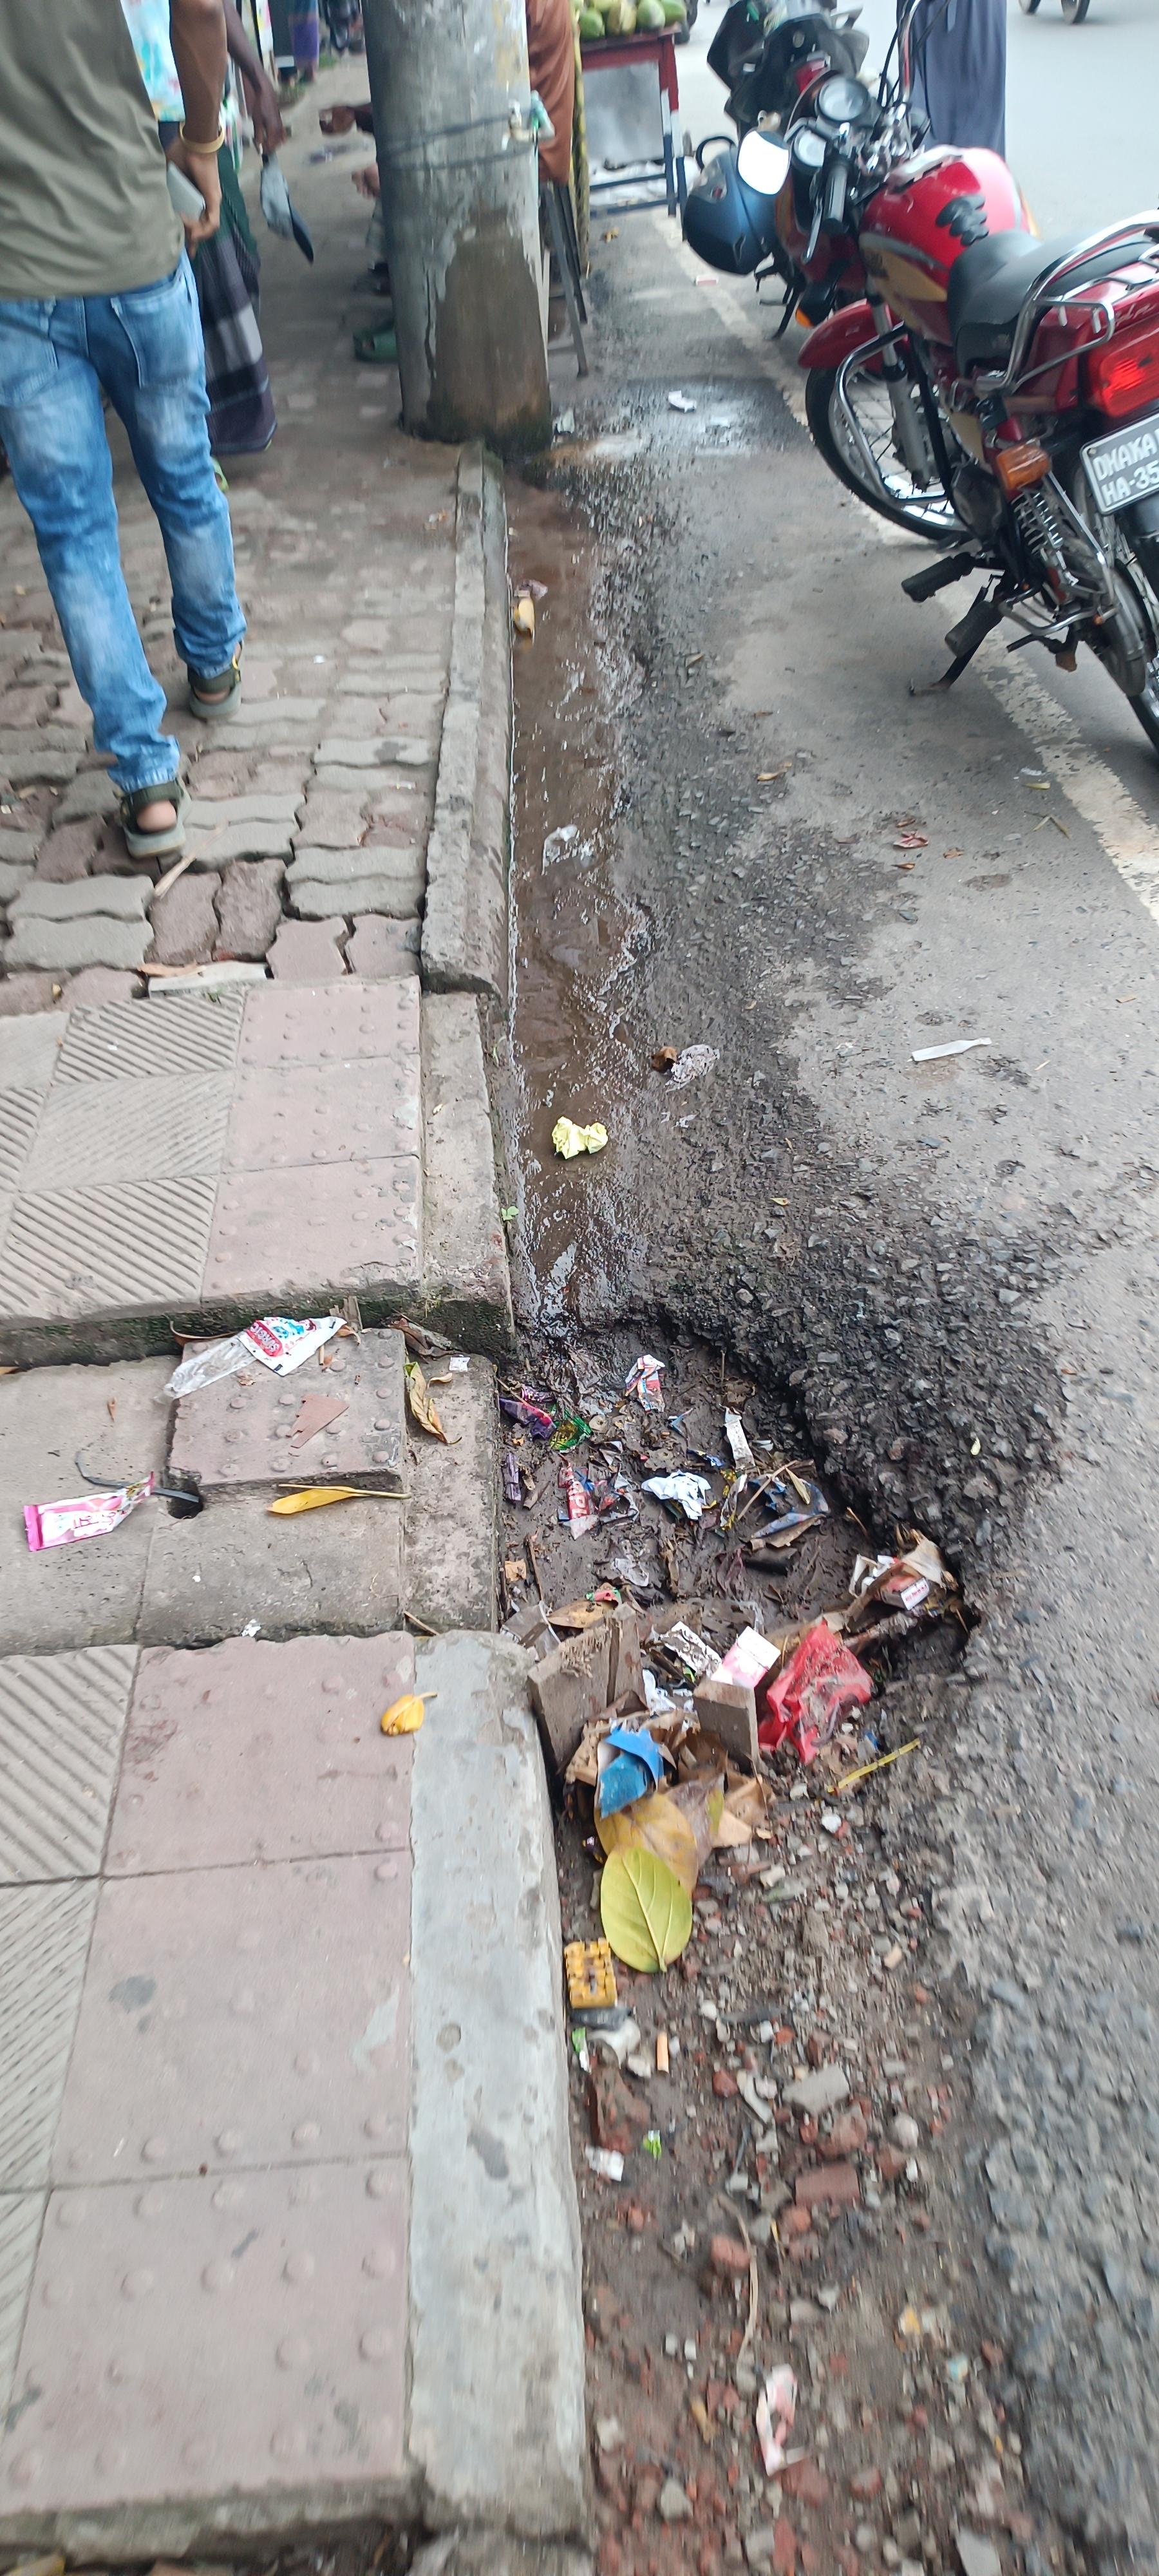Fallen-tree: (680, 2, 1157, 757)
Garbage-bin: (0, 2, 256, 859)
Light-pole: (360, 0, 557, 457)
Motorcycle: (484, 1178, 1011, 2080)
Pothole: (0, 463, 566, 2576)
